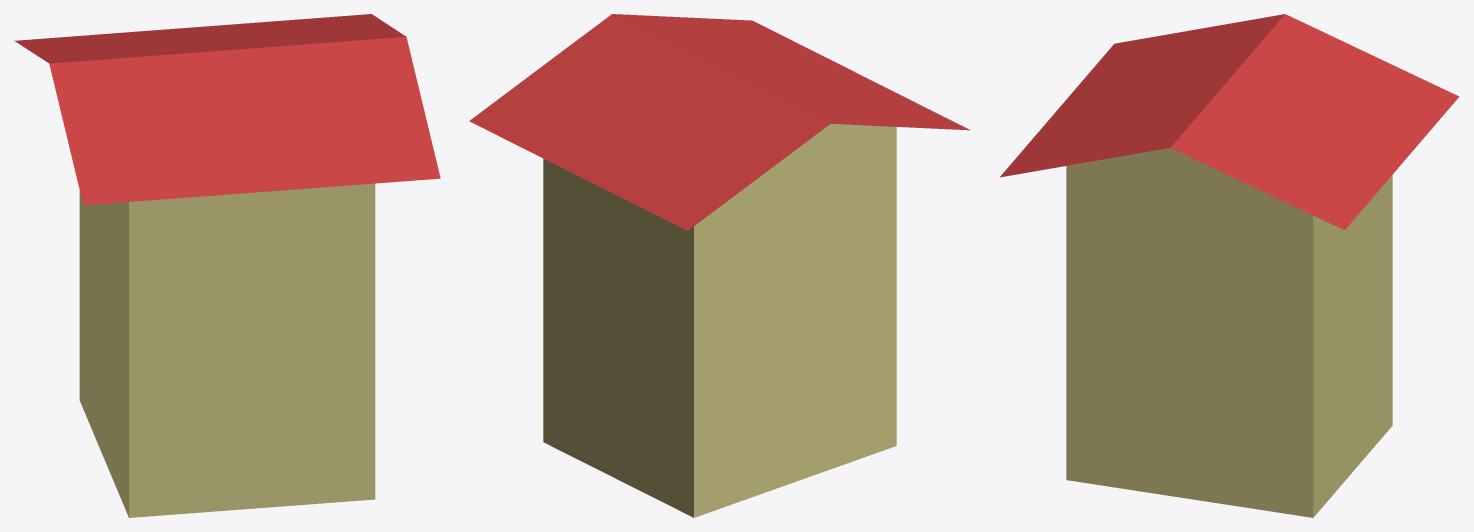
The picture shows the model from 3 angles, left to right: view 1: azimuth 30°, elevation 25°; view 2: azimuth 150°, elevation 25°; view 3: azimuth 270°, elevation 25°; orthographic projection. The views are drawn at different scales.
Size of the model in its own units: 6.34 by 6.6 by 5.88.
